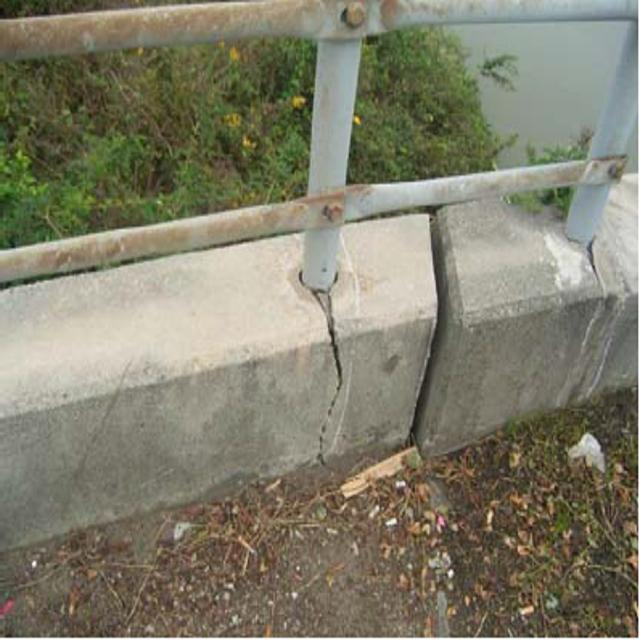crack: (304, 279, 366, 507)
